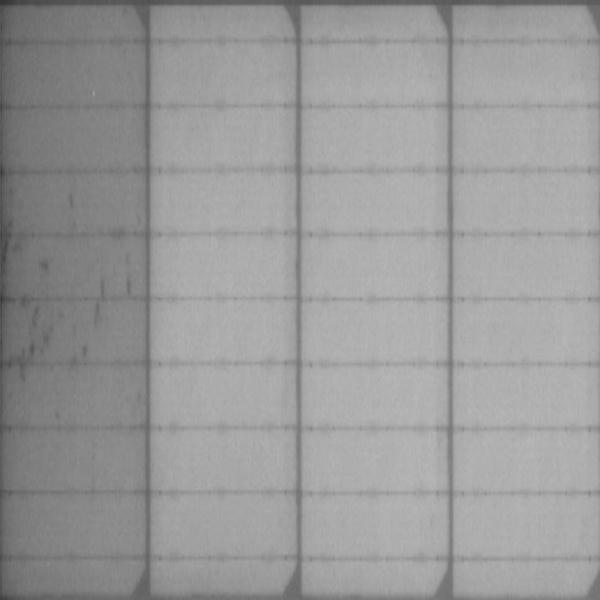scratch: (7, 305, 55, 359), (73, 304, 107, 358), (119, 251, 137, 292)
